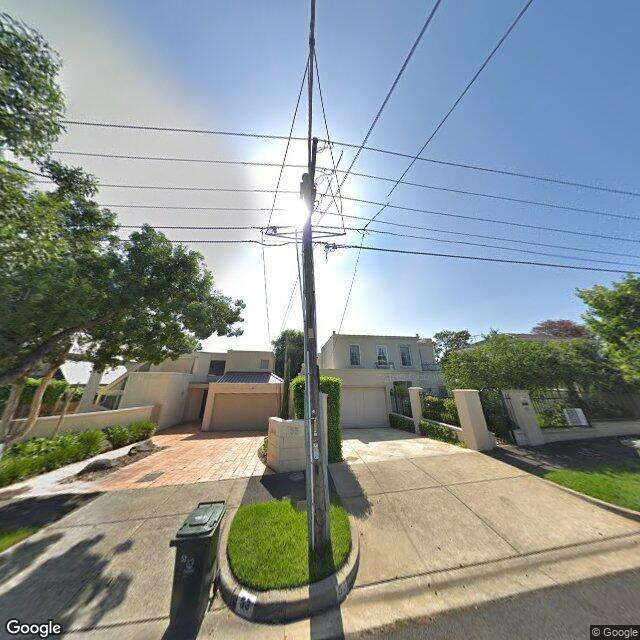crossarm: (311, 137, 318, 214)
streetlight: (304, 1, 316, 241)
timber-pole: (302, 173, 331, 552)
